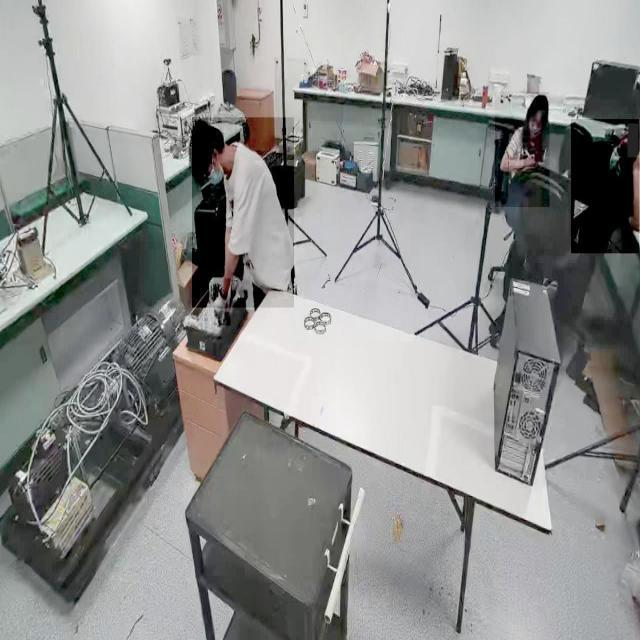gloves: (213, 278, 231, 326)
